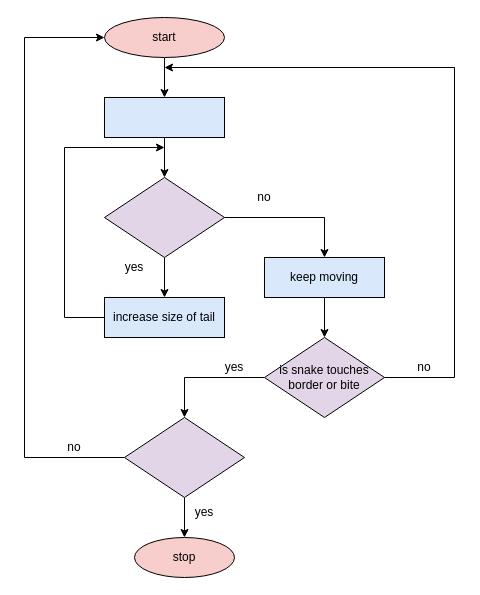
The diagram is 480 pixels wide and 595 high, and some of its shapes have lost their labels. The shapes that lost their labels are listed below. From the top down, each one's centre as x and y in pixels, then its label:
At [164,117]: "Moving".
At [164,217]: "is find food".
At [184,457]: "is you want to quit".
